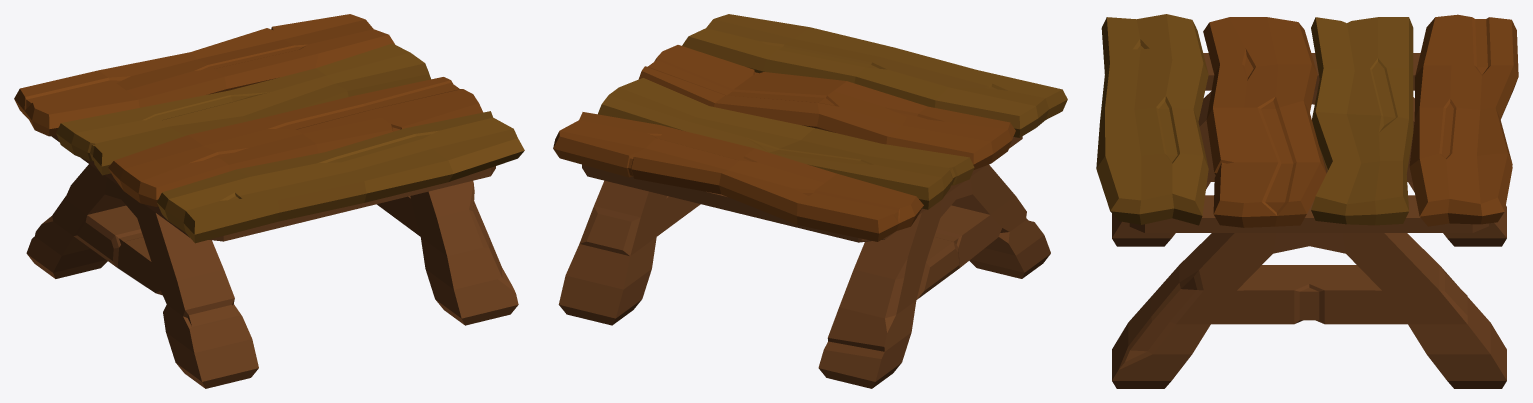
File: TableShort.fbx
3 views of the same model, side by side, from view 1: azimuth 30°, elevation 25°; view 2: azimuth 150°, elevation 25°; view 3: azimuth 270°, elevation 25° (orthographic). The views are drawn at different scales.
Visible parts, largest first — view 1: Table.001, Planks.001, Core.001; view 2: Planks.001, Core.001, Table.001; view 3: Core.001, Planks.001, Table.001.
Boxes of the visible parts, x1,y1,x2,y2 form: Table.001: [56, 43, 524, 243]; Planks.001: [14, 14, 483, 206]; Core.001: [26, 135, 518, 388]; Planks.001: [553, 45, 1015, 241]; Core.001: [558, 136, 1050, 388]; Table.001: [598, 14, 1067, 209]; Core.001: [1112, 53, 1506, 388]; Planks.001: [1203, 14, 1518, 227]; Table.001: [1096, 14, 1413, 225].
Size of the model in its own units: 152 by 73.46 by 141.
